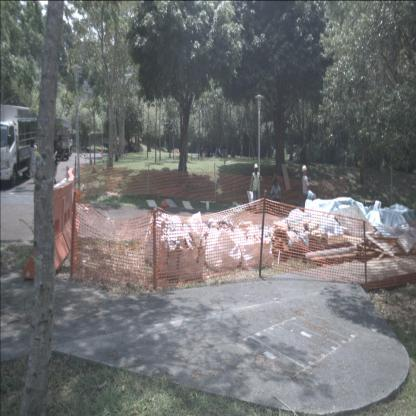human-pedestrian-adult: (49, 140, 60, 184), (29, 138, 39, 184)
movable_object-barrier: (21, 183, 69, 282), (55, 179, 81, 262), (64, 164, 84, 232)
vehicle-truck: (0, 104, 41, 188), (43, 117, 70, 161)
